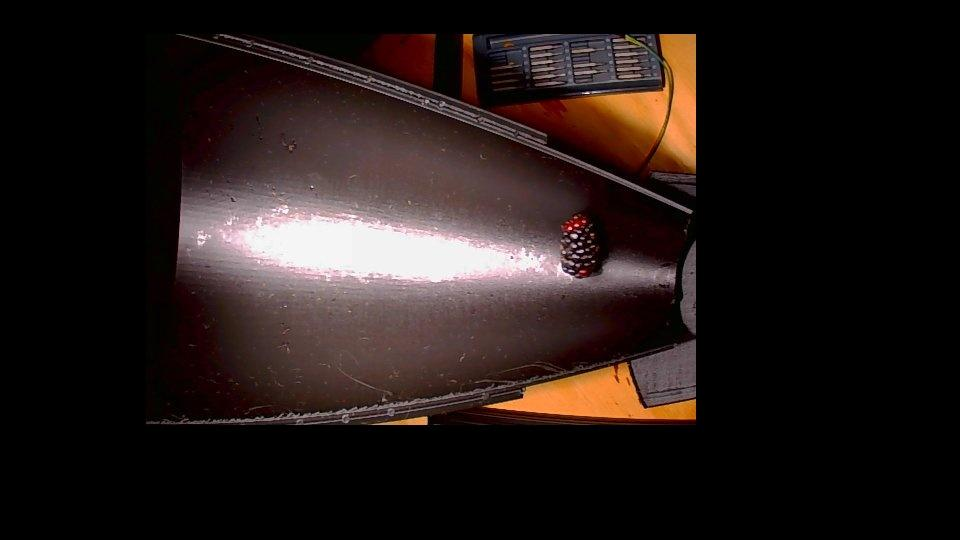berry: (561, 213, 602, 278)
